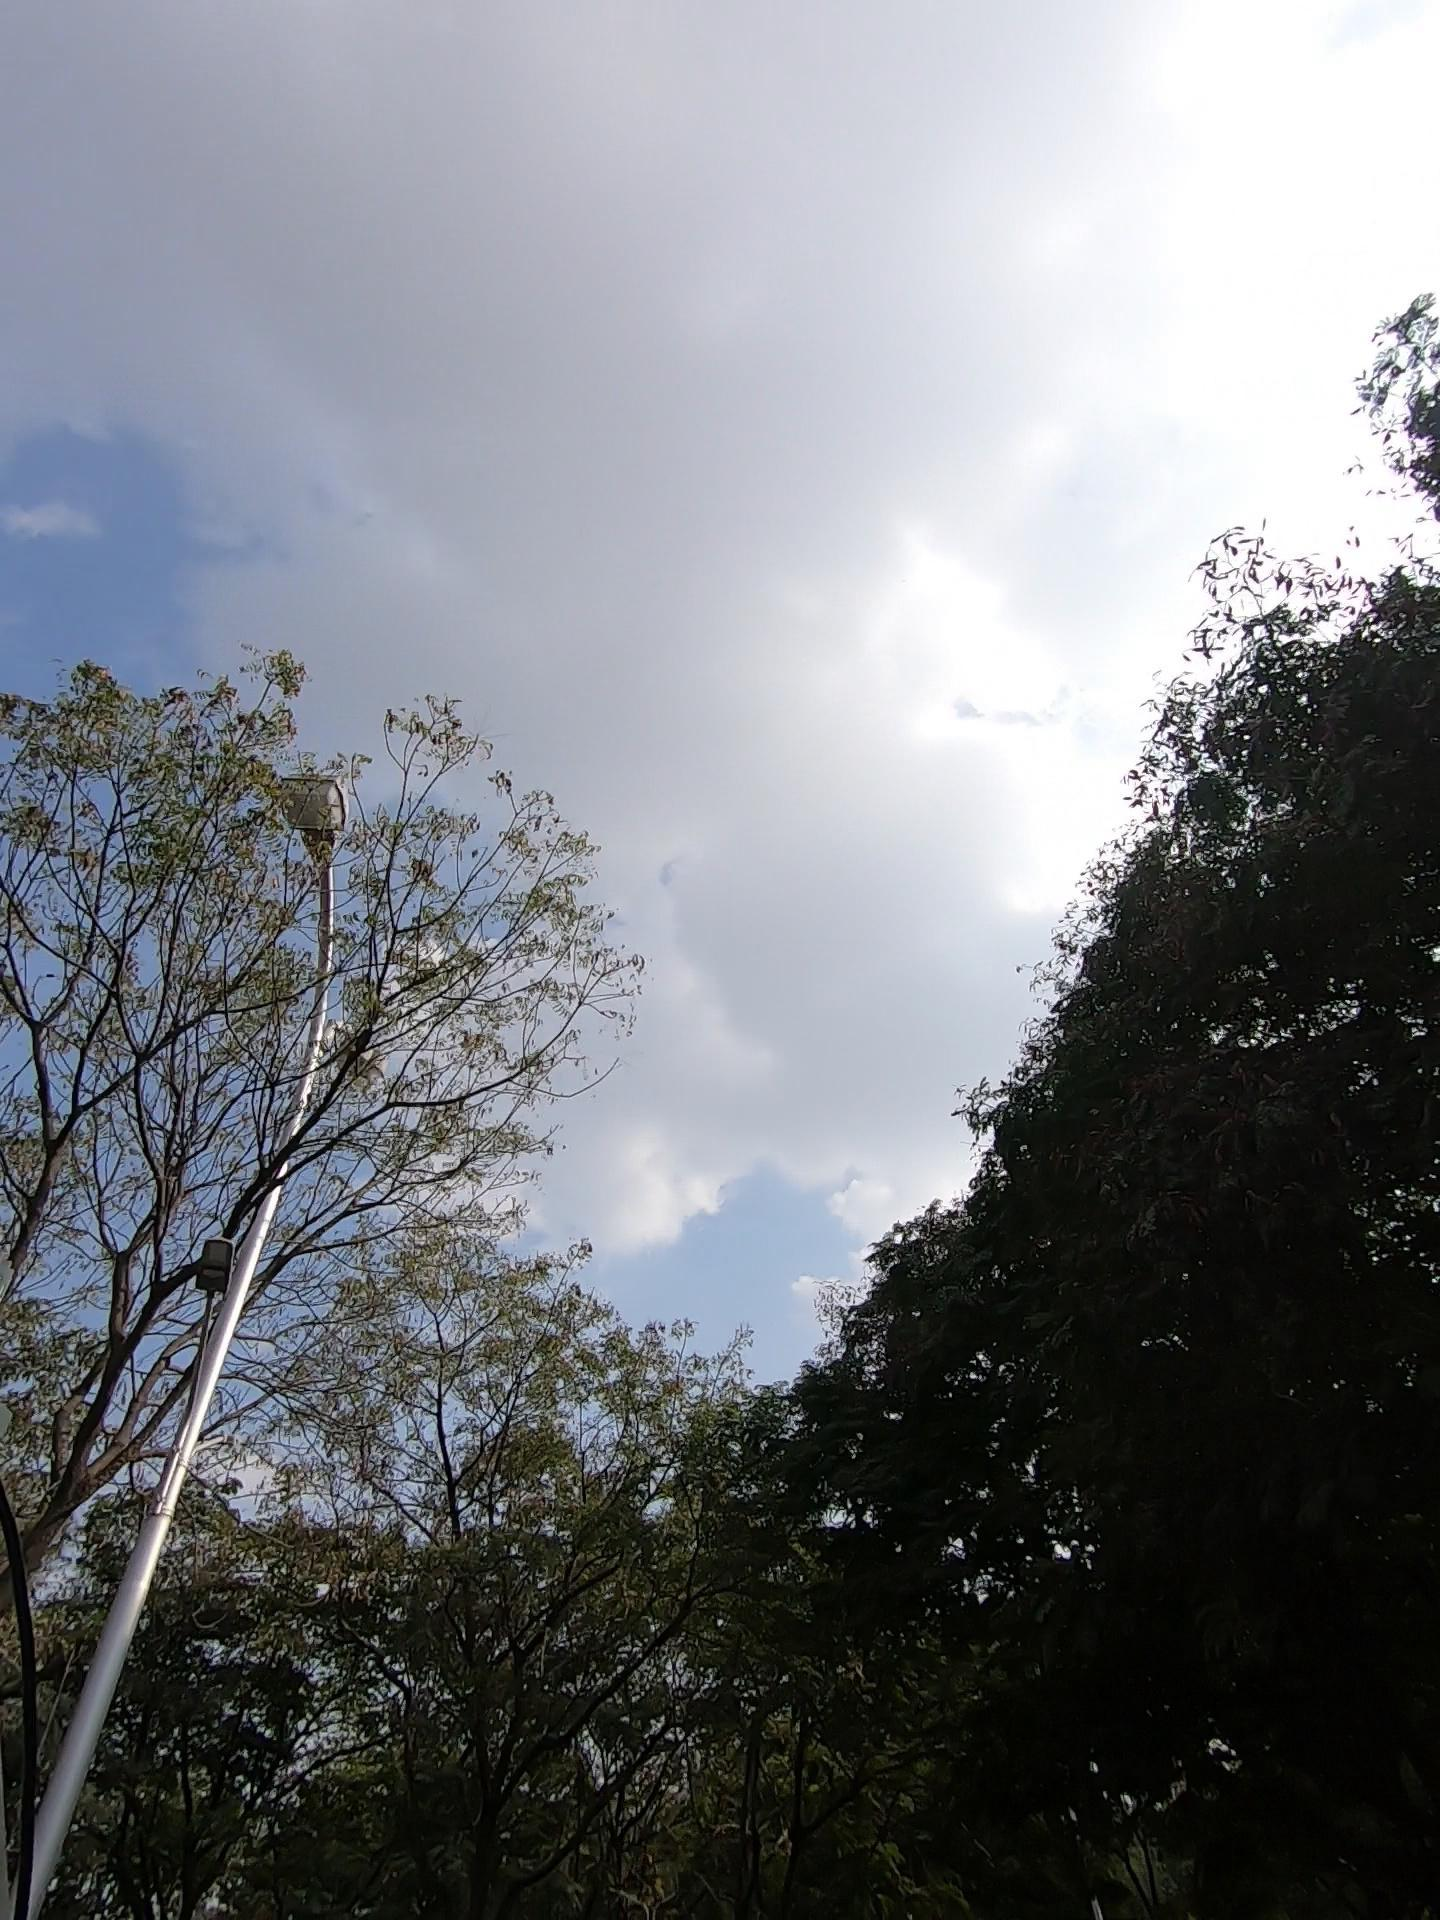off: (180, 661, 407, 1223)
